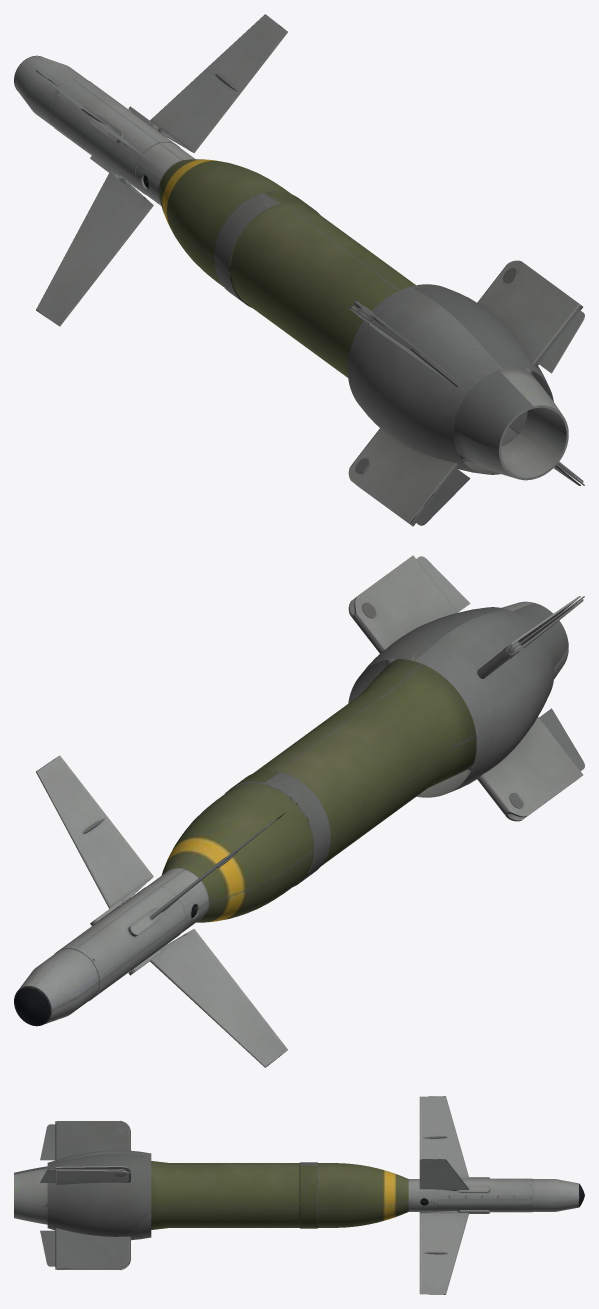
Rendered from w_gbu24.glb.
The picture shows the model from 3 angles, top to bottom: view 1: azimuth 30°, elevation 25°; view 2: azimuth 150°, elevation 25°; view 3: azimuth 270°, elevation 25°; orthographic projection. The views are drawn at different scales.
Parts seen in each view (by area): view 1: body|GB_paint; view 2: body|GB_paint; view 3: body|GB_paint.
Part boxes in pixels (bbox=[...]): body|GB_paint: bbox=[14, 14, 584, 526]; body|GB_paint: bbox=[14, 555, 584, 1067]; body|GB_paint: bbox=[14, 1096, 584, 1294].
Bounding box in the file's own units: 1.15 × 1.15 × 4.39.
Materials: 1 (1 with a texture image).
